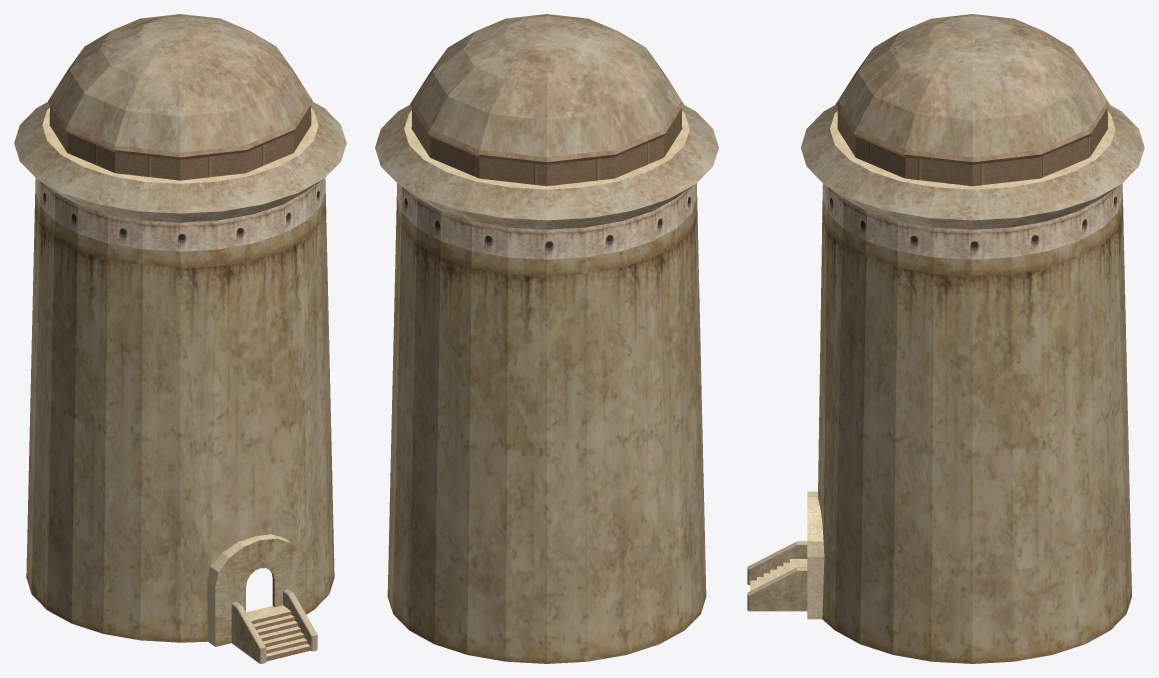
File: thm_tato_imprv_building_s09_r0_mesh_l0.fbx
3 views of the same model, side by side, from view 1: azimuth 30°, elevation 25°; view 2: azimuth 150°, elevation 25°; view 3: azimuth 270°, elevation 25° (orthographic). The views are drawn at different scales.
Visible parts, largest first — view 1: mesh_node; view 2: mesh_node; view 3: mesh_node.
Boxes of the visible parts, x1,y1,x2,y2 form: mesh_node: [14, 14, 346, 663]; mesh_node: [375, 14, 718, 663]; mesh_node: [747, 14, 1144, 663].
Size of the model in its own units: 21.87 by 39.78 by 25.27.
